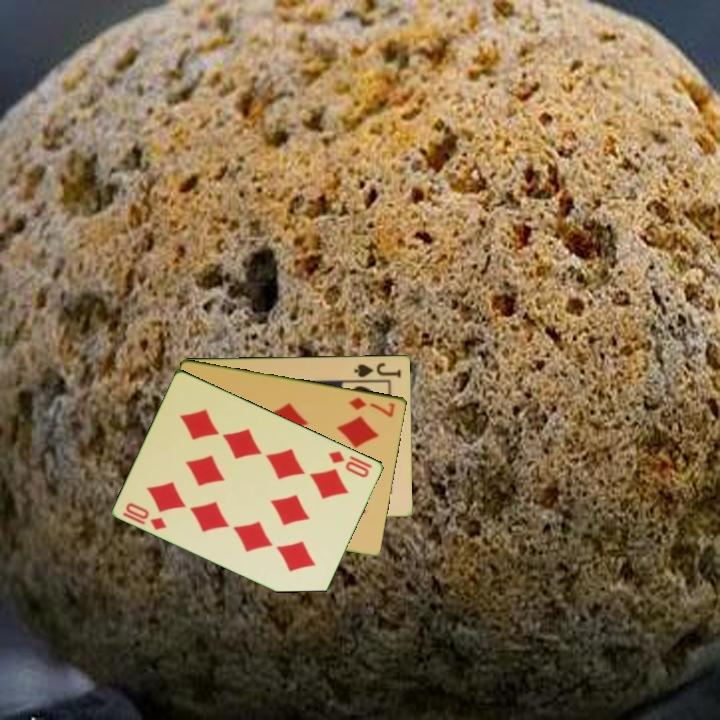10d: (119, 499, 170, 533), (325, 447, 375, 481)
7d: (346, 393, 398, 420)
Js: (351, 359, 404, 380)
